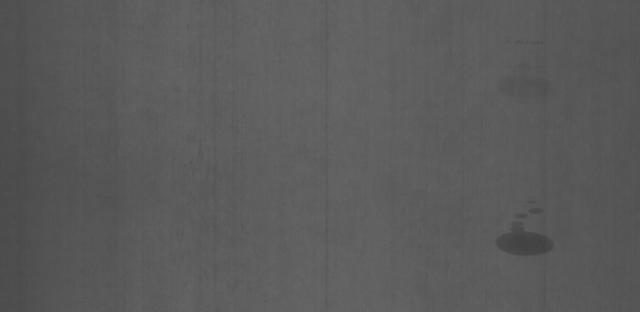oil_spot: (489, 199, 572, 266)
